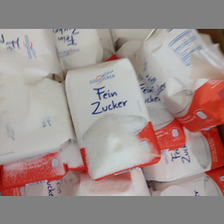tomato_sauce: (64, 58, 161, 181), (135, 29, 224, 130)
